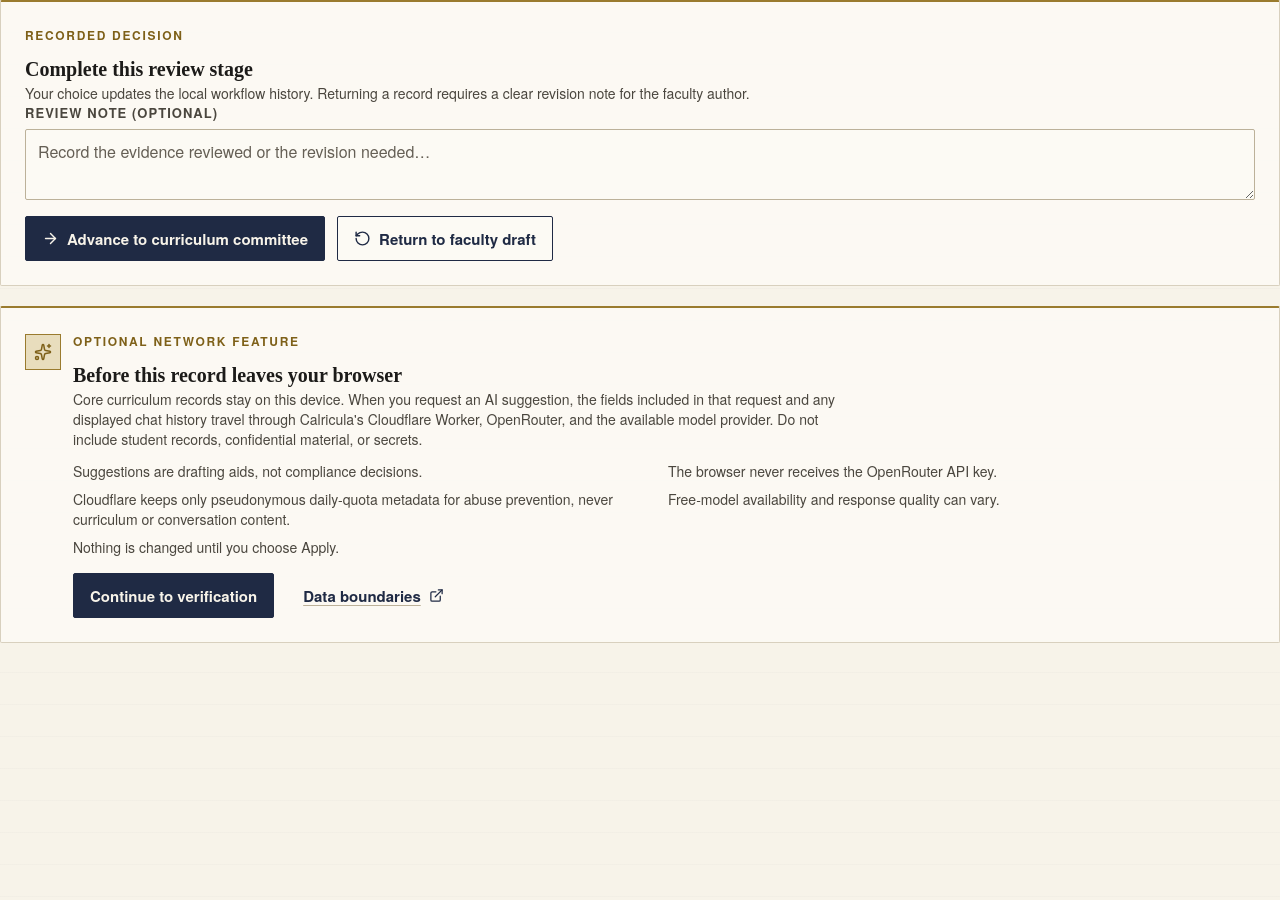
Test: ApprovalActionPanel › requires a revision note before confirming a return
Click the button "Return to faculty draft" at coordinates (445, 239), box [337,216,553,261]
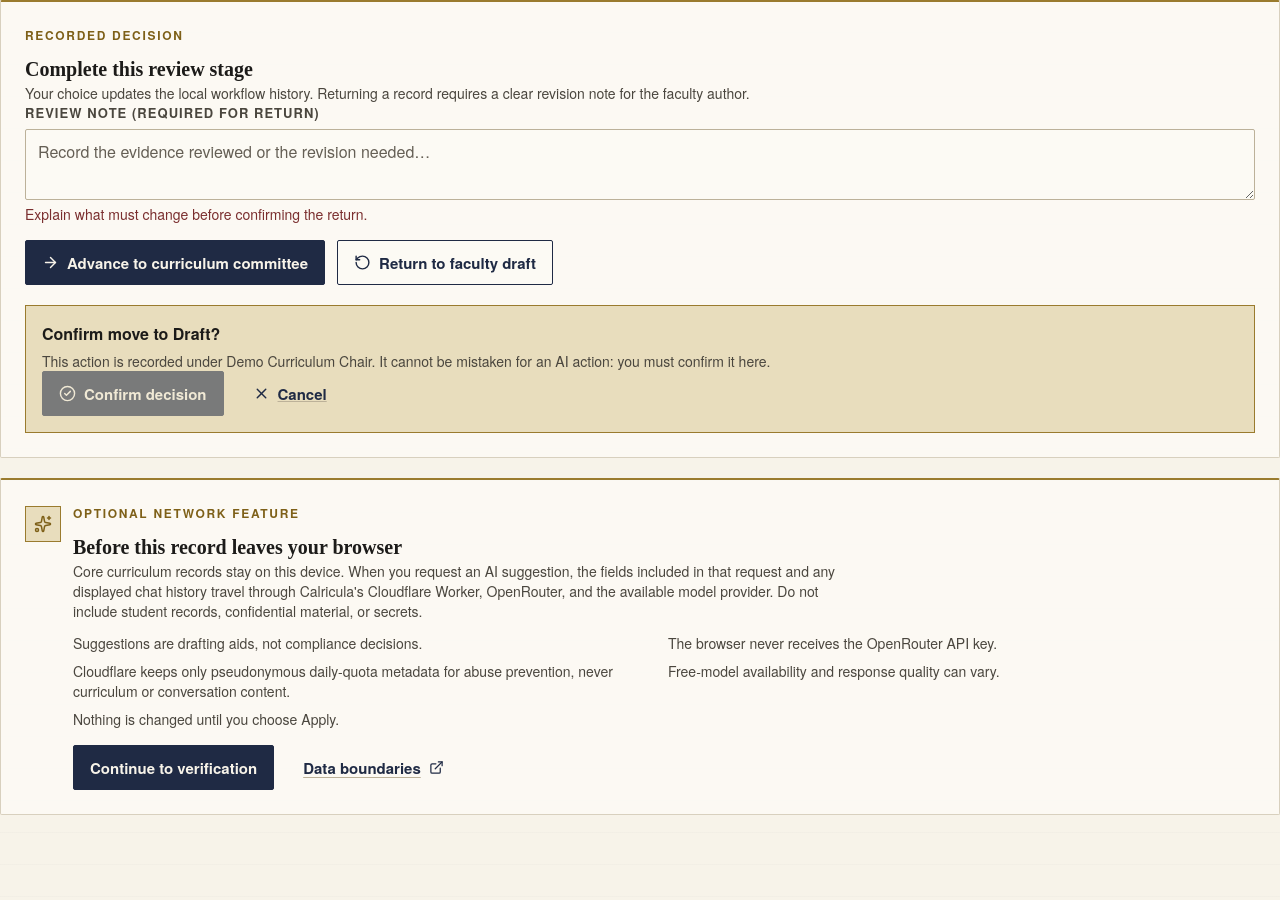
Result: the button "Confirm decision" is disabled at [42,371,224,416]
Type "Reconcile the instructional hours table." into the text box labelled "Review note (required for return)" at coordinates (640, 164), box [25,129,1255,200]
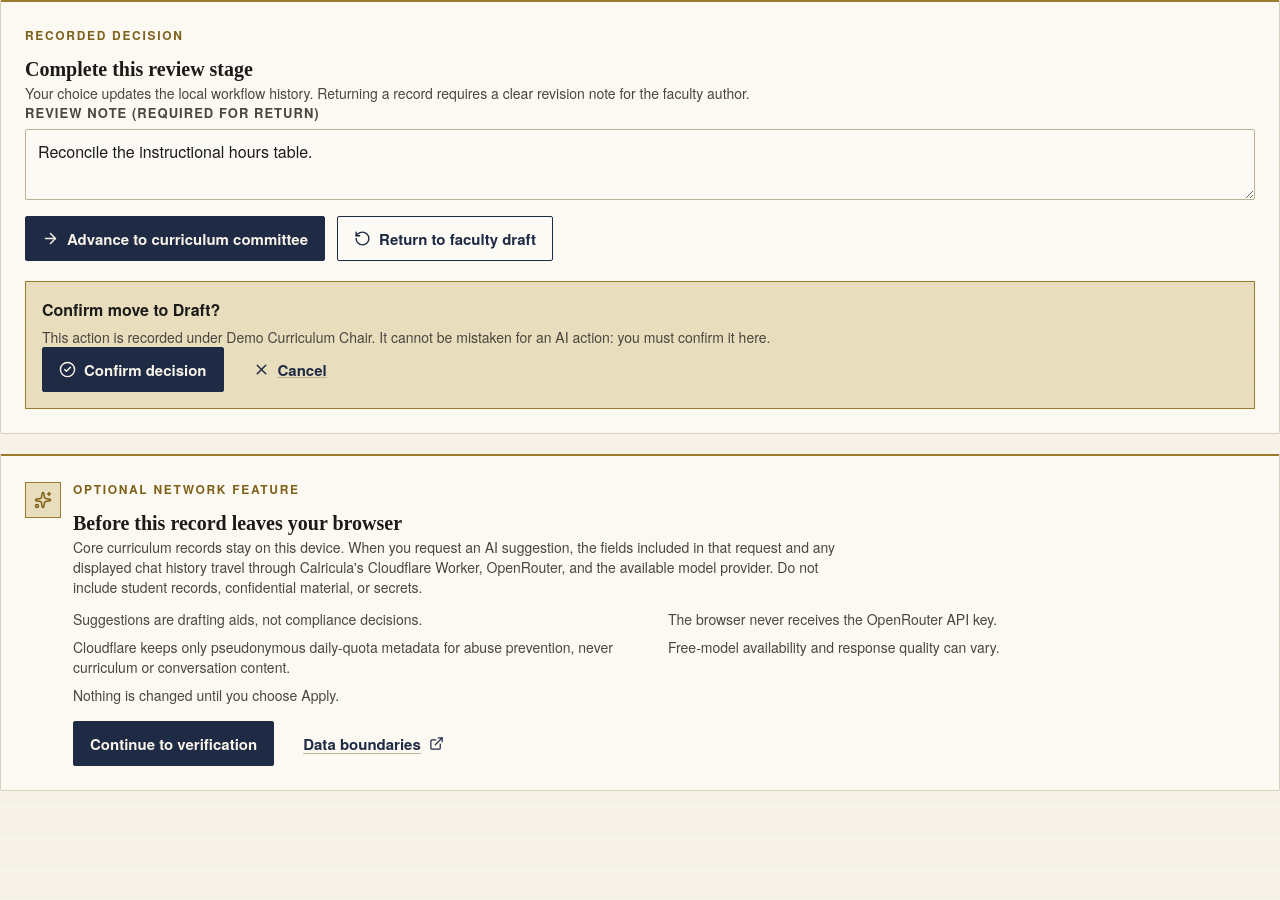
Result: the button "Confirm decision" is enabled at [42,347,224,392]
